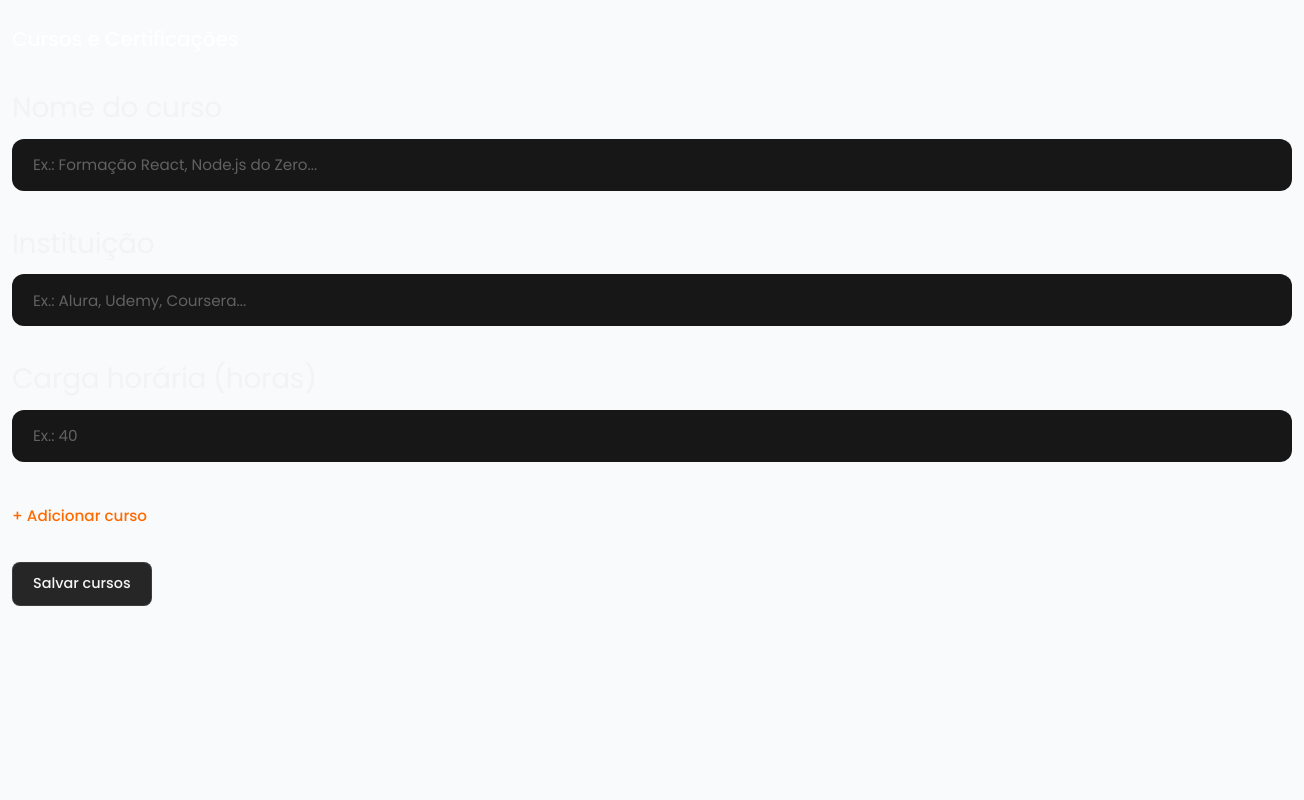
Test case: FormularioCursos › exibe erros de validação quando campos obrigatórios estão vazios
This screenshot has width=1304, height=800.
What coordinates should you click on to do the following:
click the button "Salvar cursos"
I would click on:
 (82, 584)
Its box is [12,562,152,606].
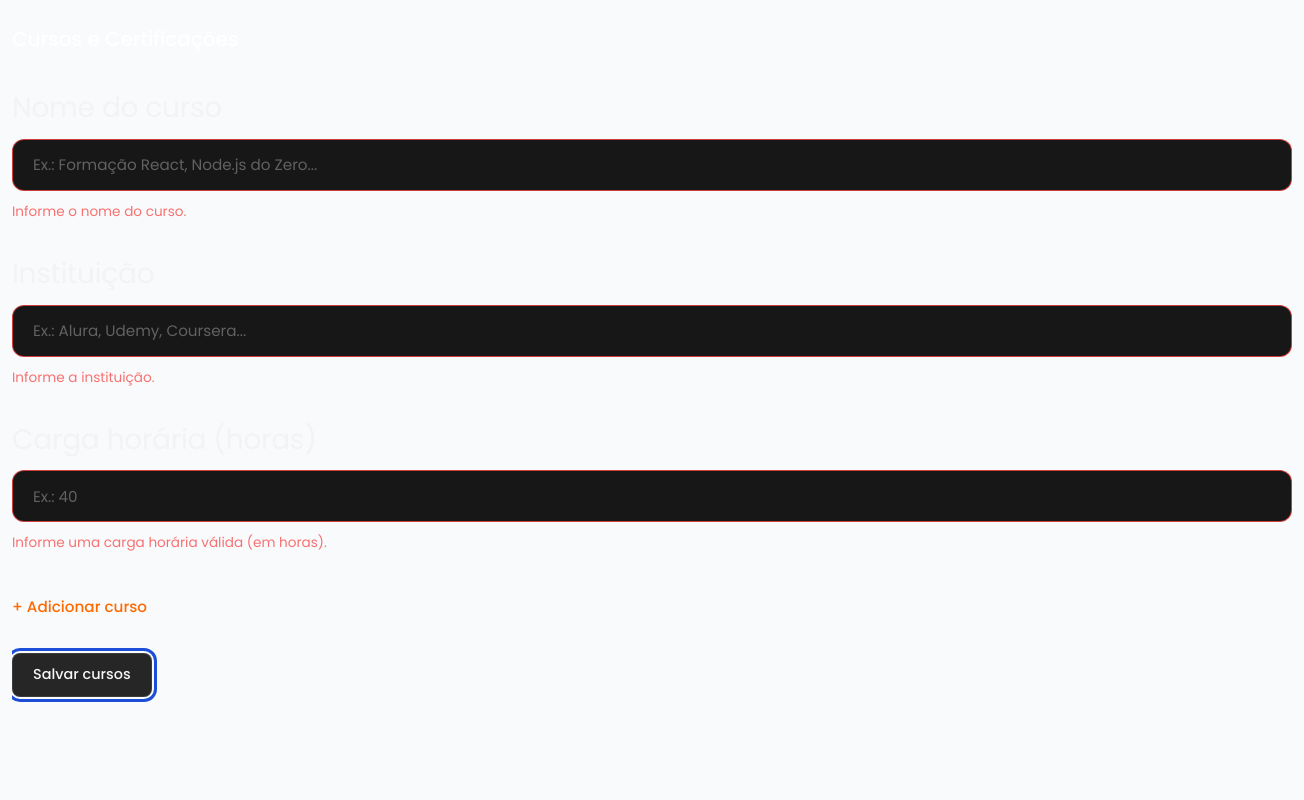
expect the text "Informe o nome do curso." is shown: met, box [12,202,186,221]
expect the text "Informe a instituição." is shown: met, box [12,368,155,386]
expect the text "Informe uma carga horária válida (em horas)." is shown: met, box [12,533,327,552]
